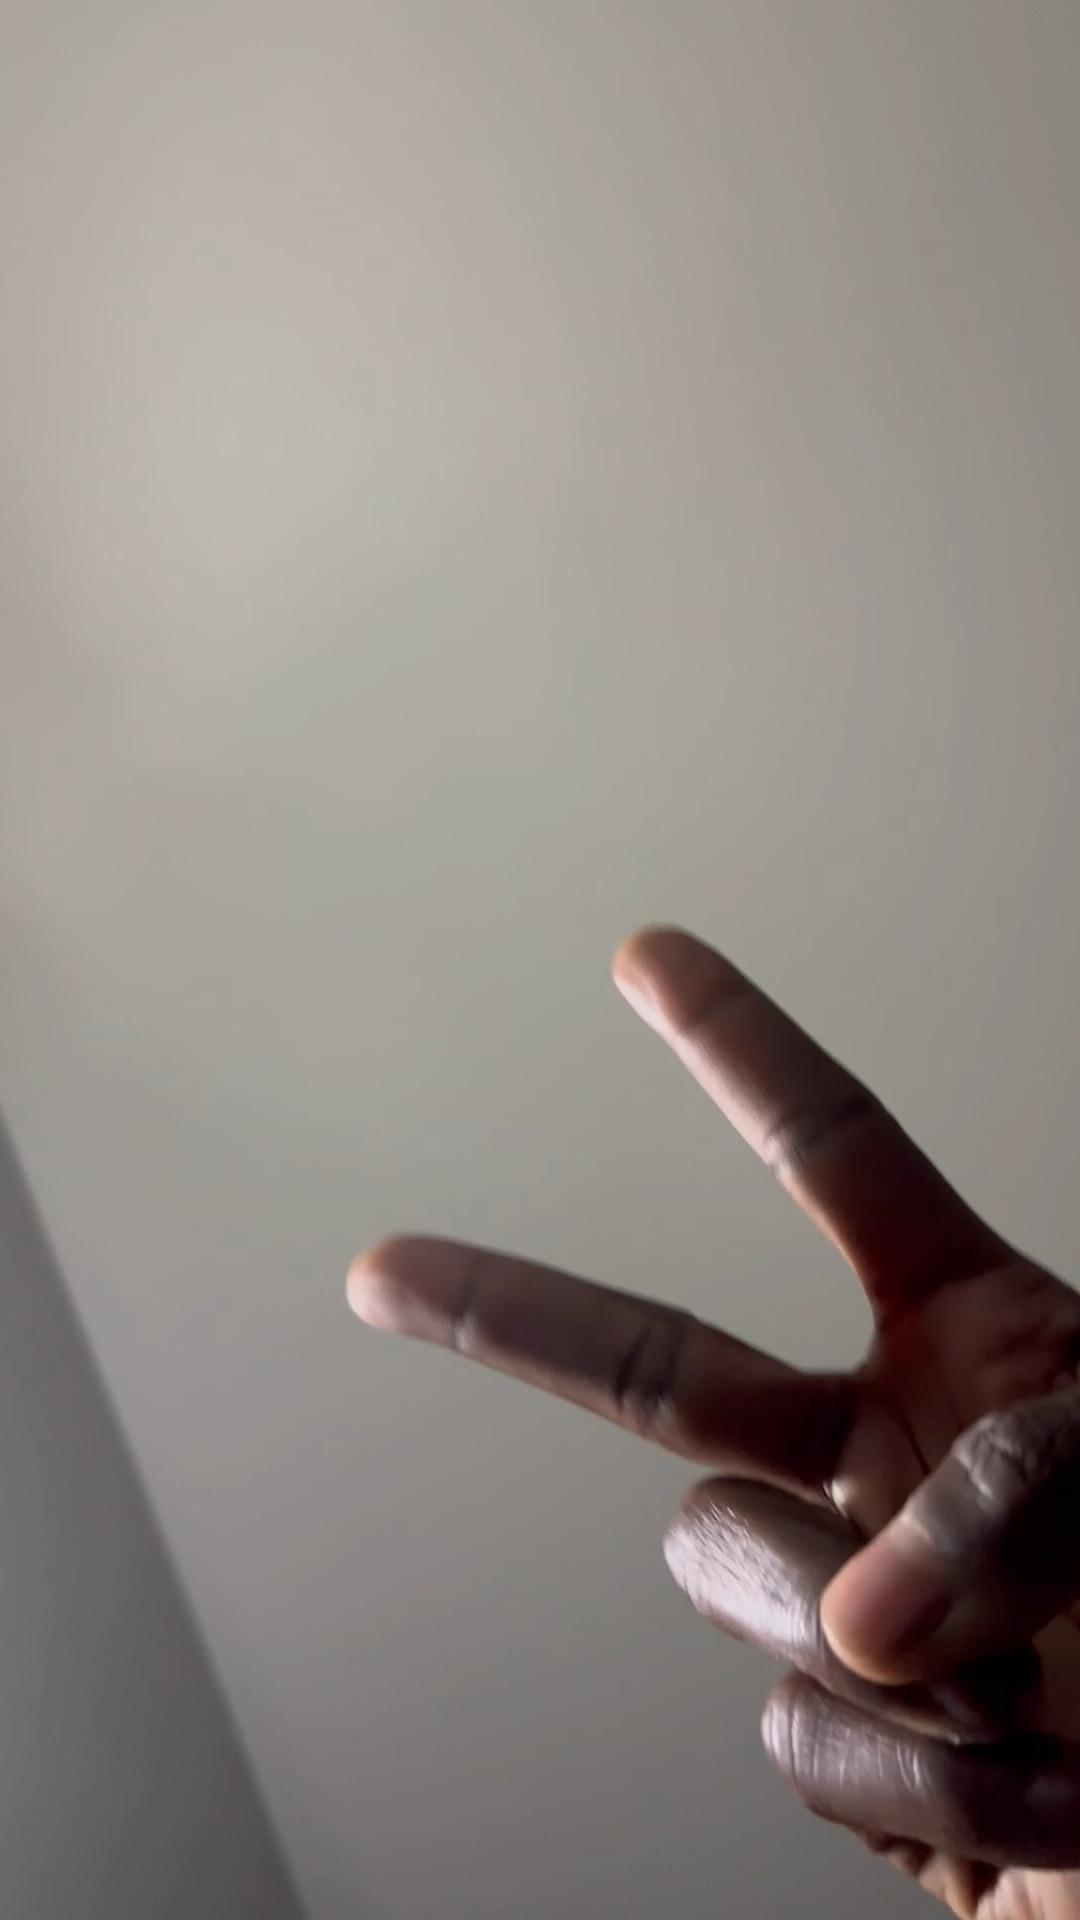Scissors: (337, 913, 1080, 1920)
